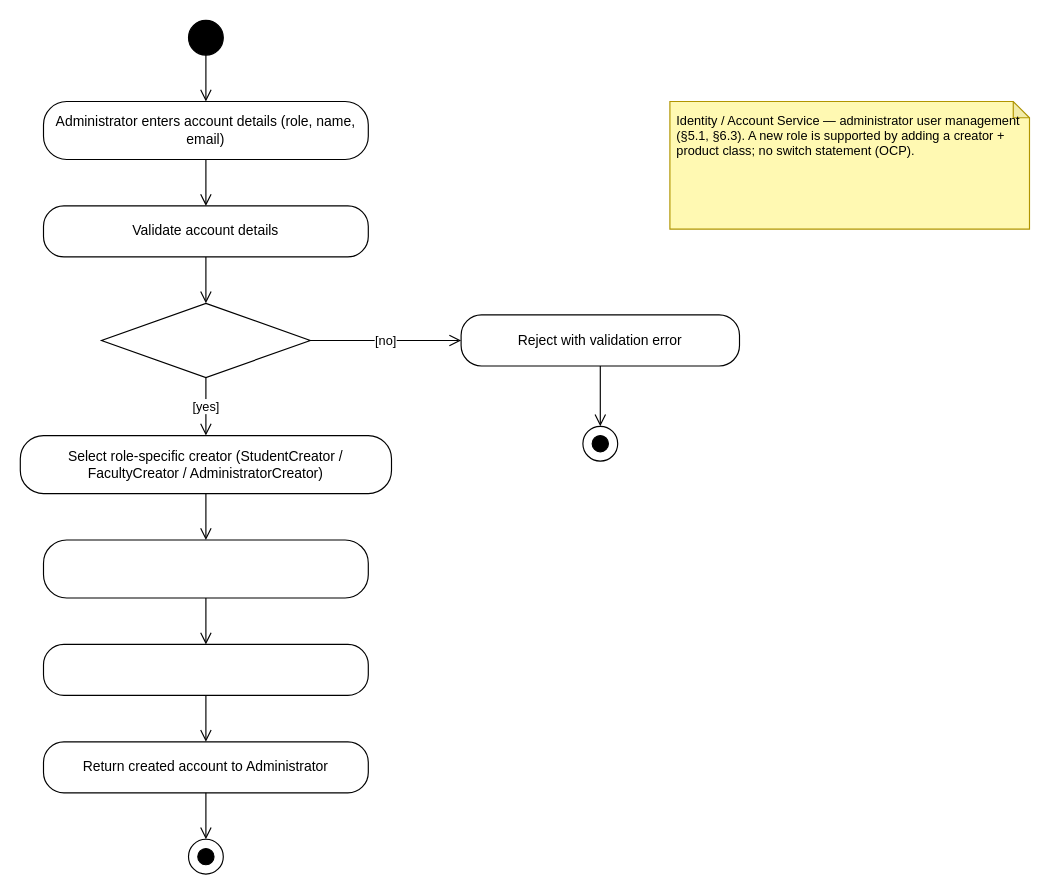
This 1050x894 diagram has some shape labels left out. The shapes that lost their labels are listed below. From the top down, each one's box as (x1, y1, x2, y2) in pixels, then its label:
(100, 302, 310, 378): details valid?
(42, 539, 368, 598): createUser() builds the role-specific User object (Factory Method — diagram 05)
(42, 643, 368, 695): registerUser() saves the user via UserRepository
